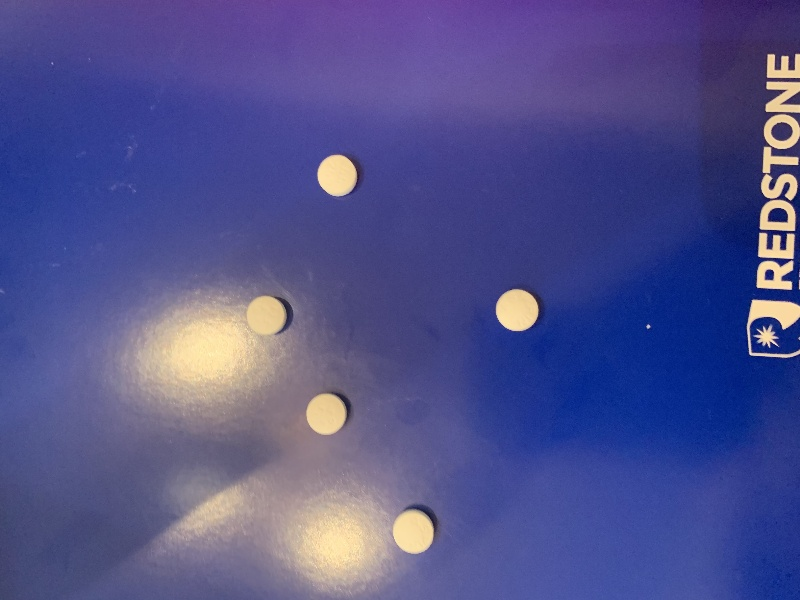Aspirin: (390, 503, 438, 559), (494, 286, 542, 335), (305, 391, 350, 437), (316, 152, 359, 200), (244, 294, 291, 335)
